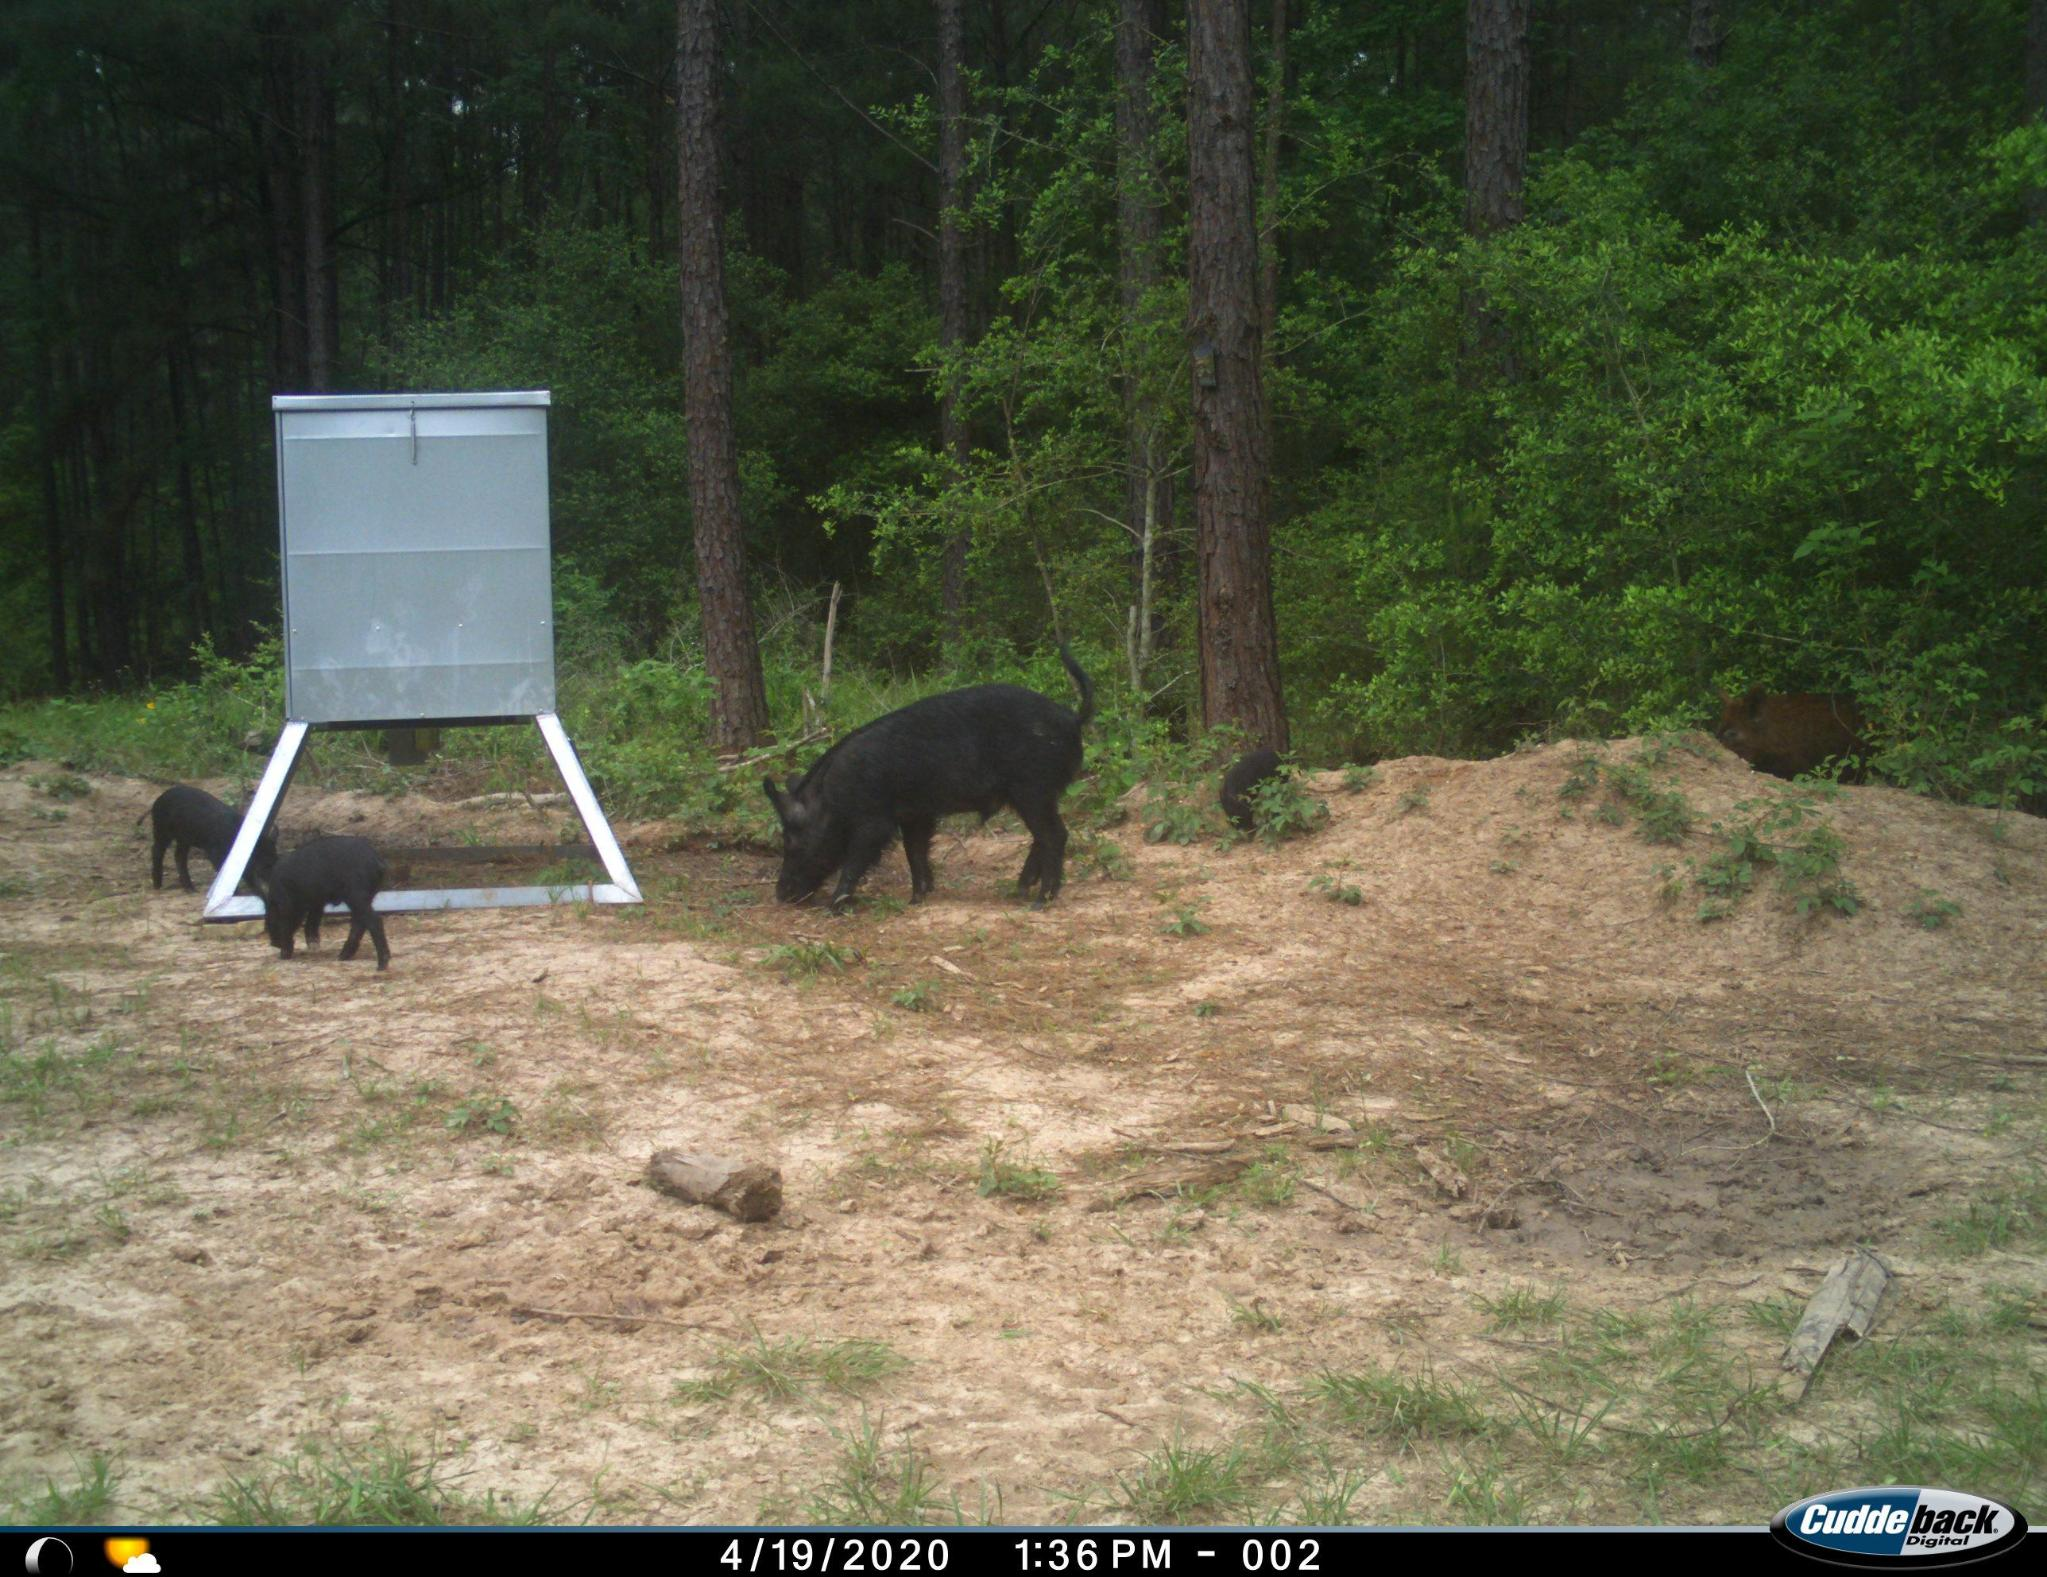Hog: (755, 634, 1125, 951), (250, 828, 402, 971), (124, 779, 293, 904)
